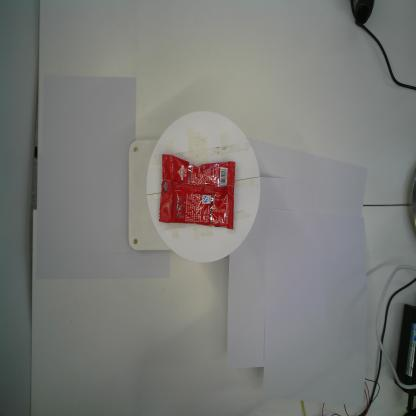Instant Drink: (156, 153, 237, 231)
